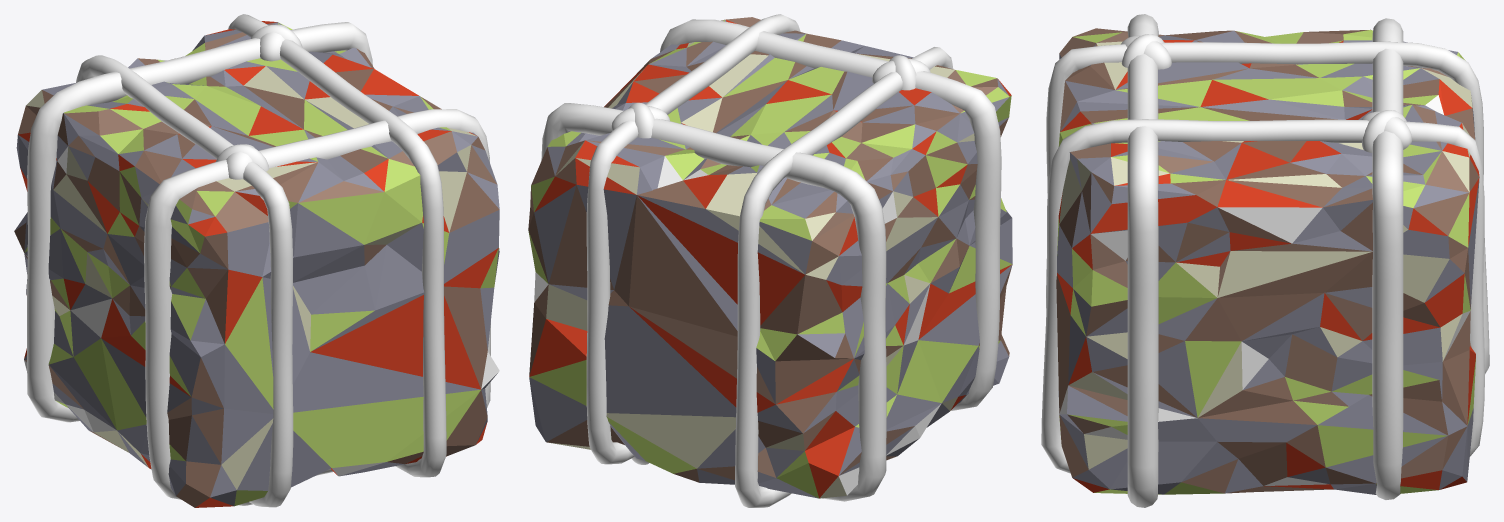
Rendered from fardo_Rmd.fbx.
3 views of the same model, side by side, from view 1: azimuth 30°, elevation 25°; view 2: azimuth 150°, elevation 25°; view 3: azimuth 270°, elevation 25° (orthographic). The views are drawn at different scales.
Visible parts, largest first — view 1: fardo_Rmd; view 2: fardo_Rmd; view 3: fardo_Rmd.
Boxes of the visible parts, x1,y1,x2,y2 form: fardo_Rmd: [14, 14, 499, 507]; fardo_Rmd: [528, 14, 1012, 507]; fardo_Rmd: [1041, 14, 1489, 507].
Size of the model in its own units: 189 by 189 by 203.
